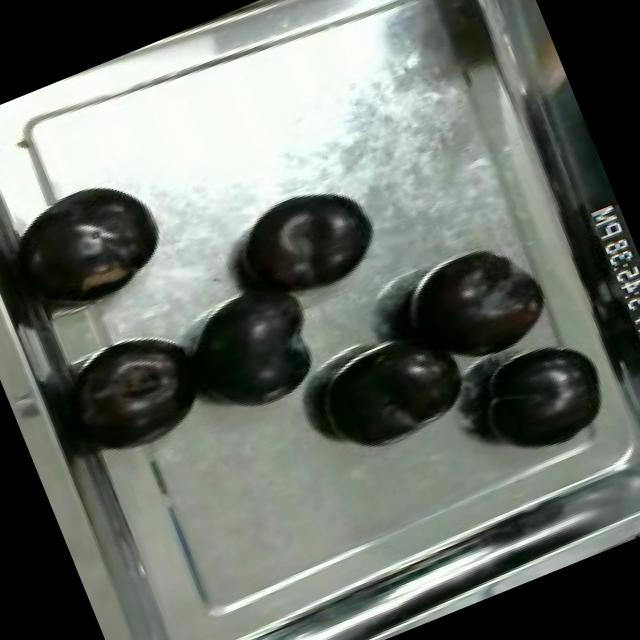Fruit: (296, 312, 490, 476), (0, 159, 180, 328), (164, 260, 338, 434), (381, 227, 566, 390), (217, 169, 391, 320), (457, 324, 624, 474), (55, 320, 214, 468)
